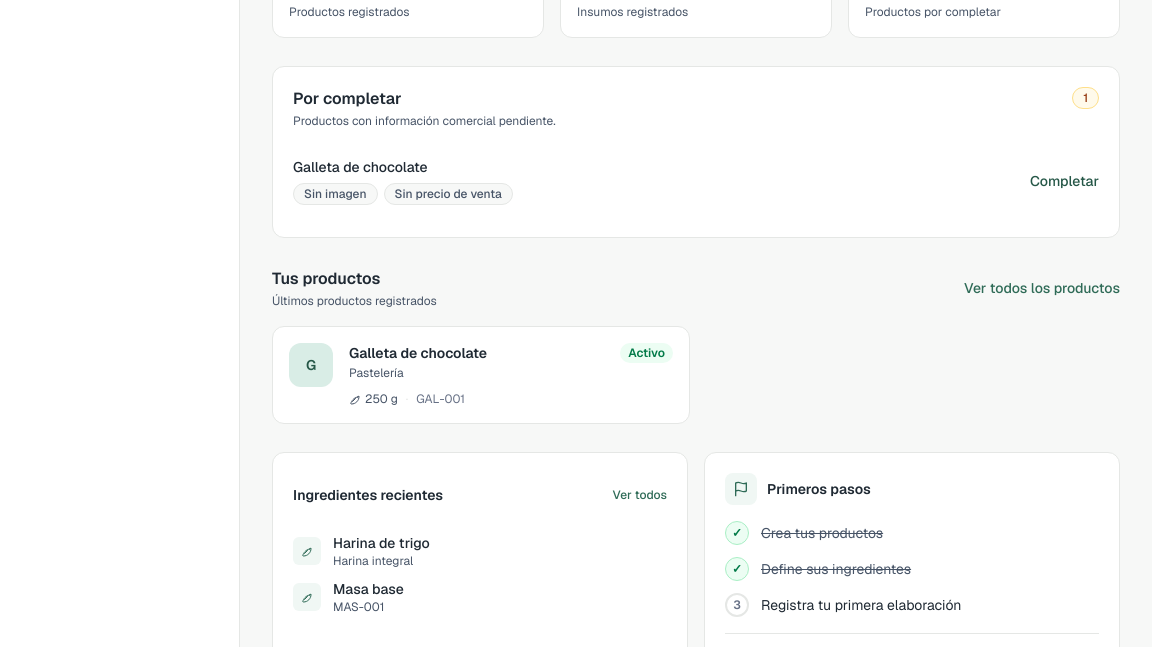
Test: Dashboard HT02 › navega a productos e ingredientes desde accesos rápidos
(page scrolled)
Expected: the heading "Tus productos" is shown, [272, 268, 380, 288]
Click the button "Ver todos los productos".
click(1042, 288)  # box [964, 266, 1120, 310]
(page scrolled)
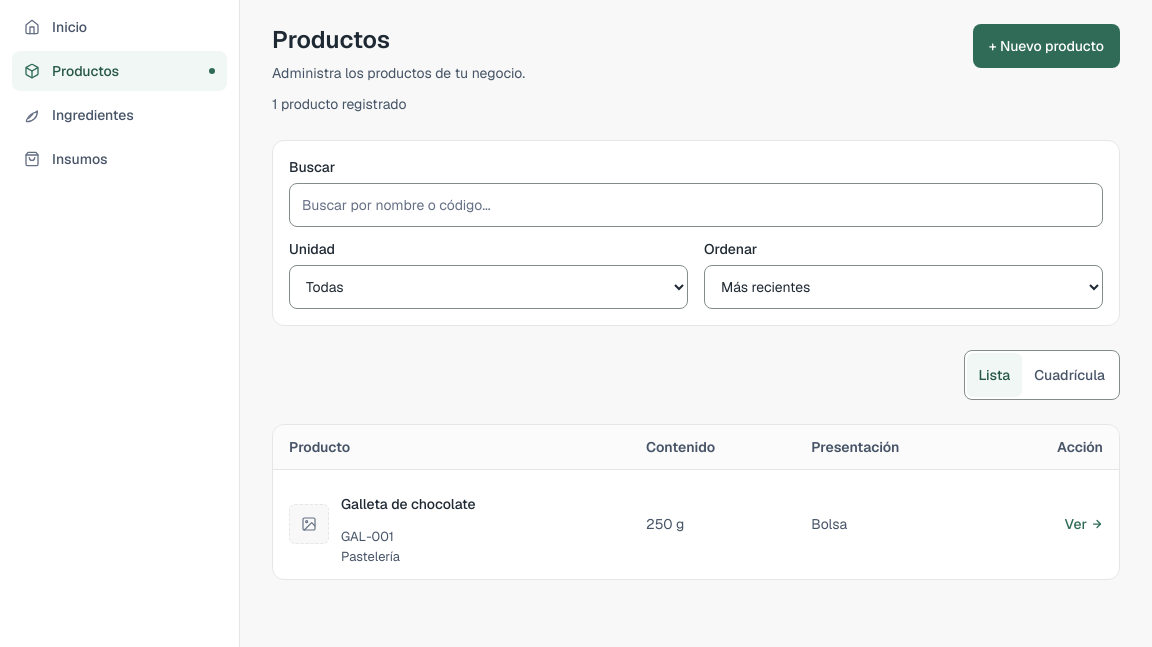
Expected: the heading "Productos" is shown, [272, 24, 390, 56]
Click the link "Inicio".
click(56, 27)  # box [24, 18, 87, 36]
(page scrolled)
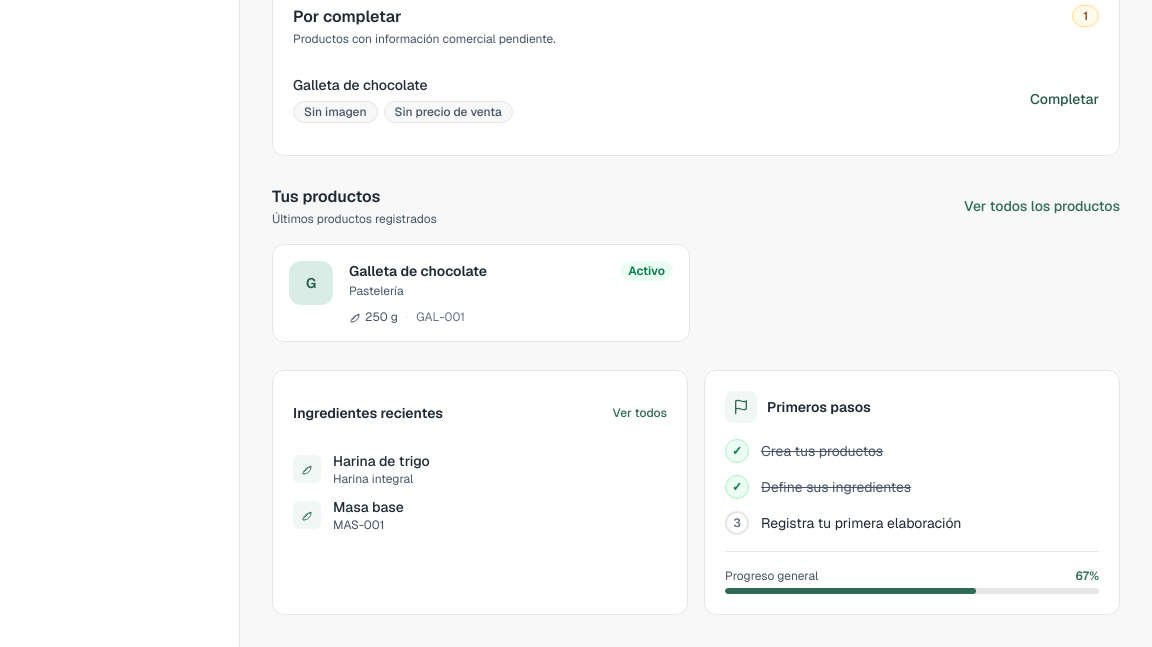
Now the heading "Ingredientes recientes" is shown, box [293, 402, 443, 422]
Click the button with aria-label "Ver todos los ingredientes".
click(640, 412)  # box [613, 390, 667, 434]
(page scrolled)
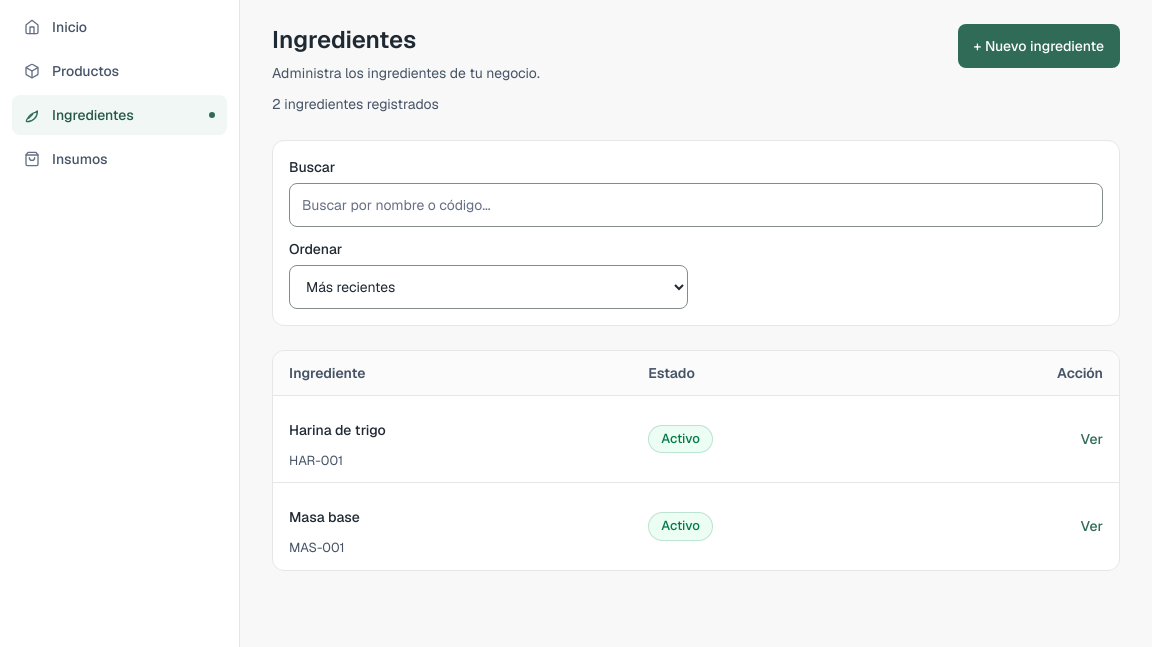
Now the heading "Ingredientes" is shown, box [272, 24, 416, 56]
